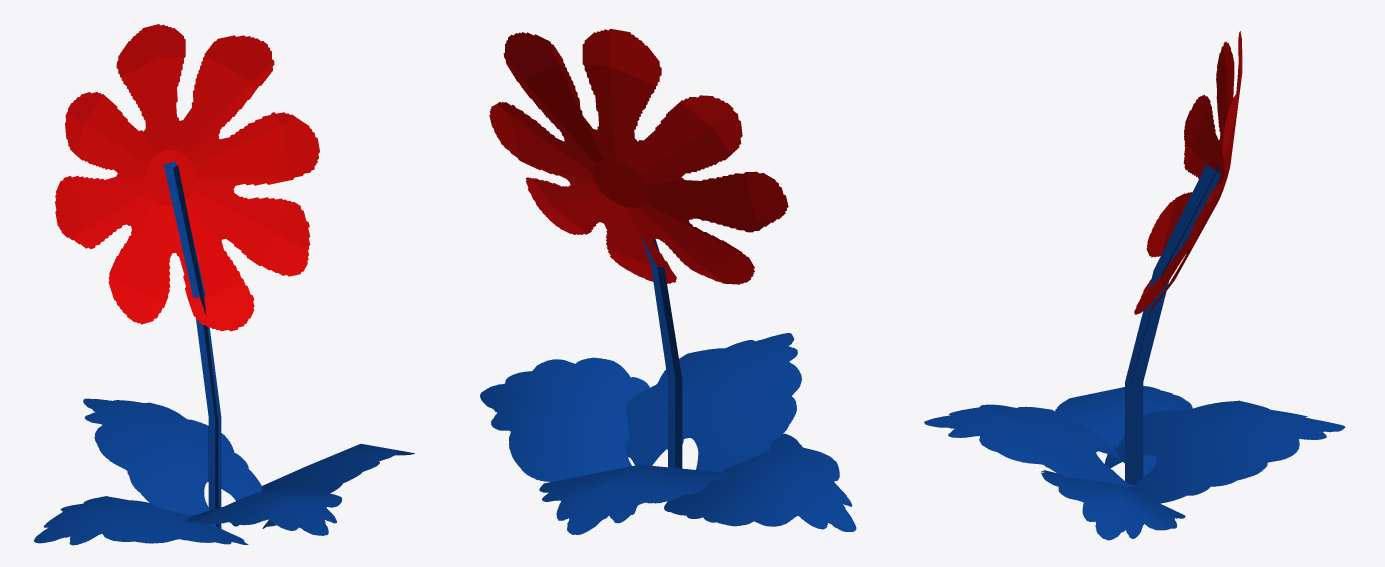
Rendered from SM_FloorDandelion1.fbx.
3 renders of one model, left to right at view 1: azimuth 30°, elevation 25°; view 2: azimuth 150°, elevation 25°; view 3: azimuth 270°, elevation 25°, orthographic. The views are drawn at different scales.
Visible parts, largest first — view 1: Plane032; view 2: Plane032; view 3: Plane032.
Boxes of the visible parts, x1,y1,x2,y2 form: Plane032: (33,24,414,545); Plane032: (480,29,856,534); Plane032: (924,31,1345,540).
Size of the model in its own units: 28.32 by 33.36 by 30.22.
